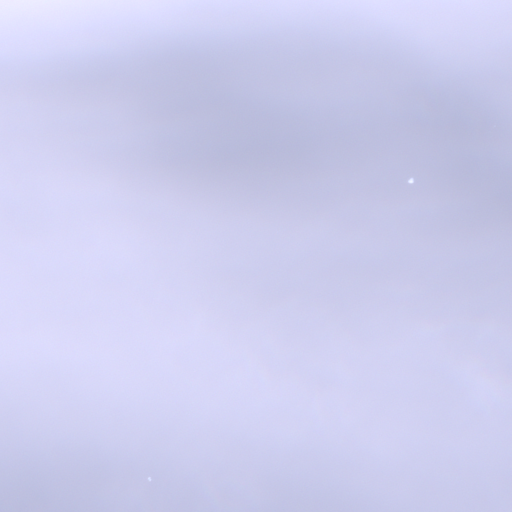Iceberg: (409, 179, 412, 182), (148, 477, 150, 480)
